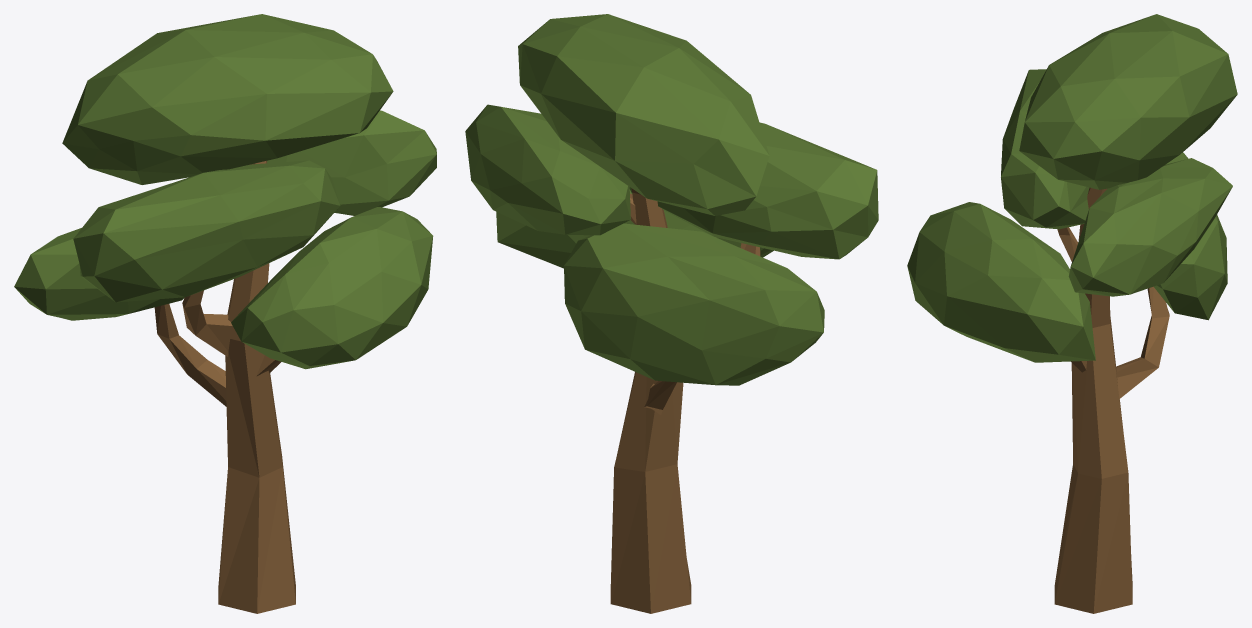
The model's file is Tree_5_4.FBX.
The picture shows the model from 3 angles, left to right: view 1: azimuth 30°, elevation 25°; view 2: azimuth 150°, elevation 25°; view 3: azimuth 270°, elevation 25°; orthographic projection. The views are drawn at different scales.
Parts seen in each view (by area): view 1: Tree_5_4; view 2: Tree_5_4; view 3: Tree_5_4.
Boxes of the visible parts, <box> form: Tree_5_4: <box>14,14,436,613</box>; Tree_5_4: <box>465,14,878,613</box>; Tree_5_4: <box>907,14,1237,613</box>.
Size of the model in its own units: 111 by 150 by 82.07.
1 material, 1 textured.
